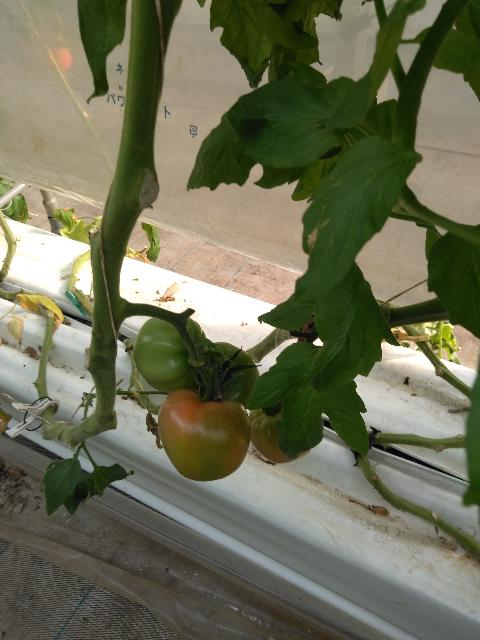b_green: (133, 314, 205, 391), (191, 342, 261, 410)
b_half_ripened: (157, 389, 251, 482), (249, 400, 311, 464)
